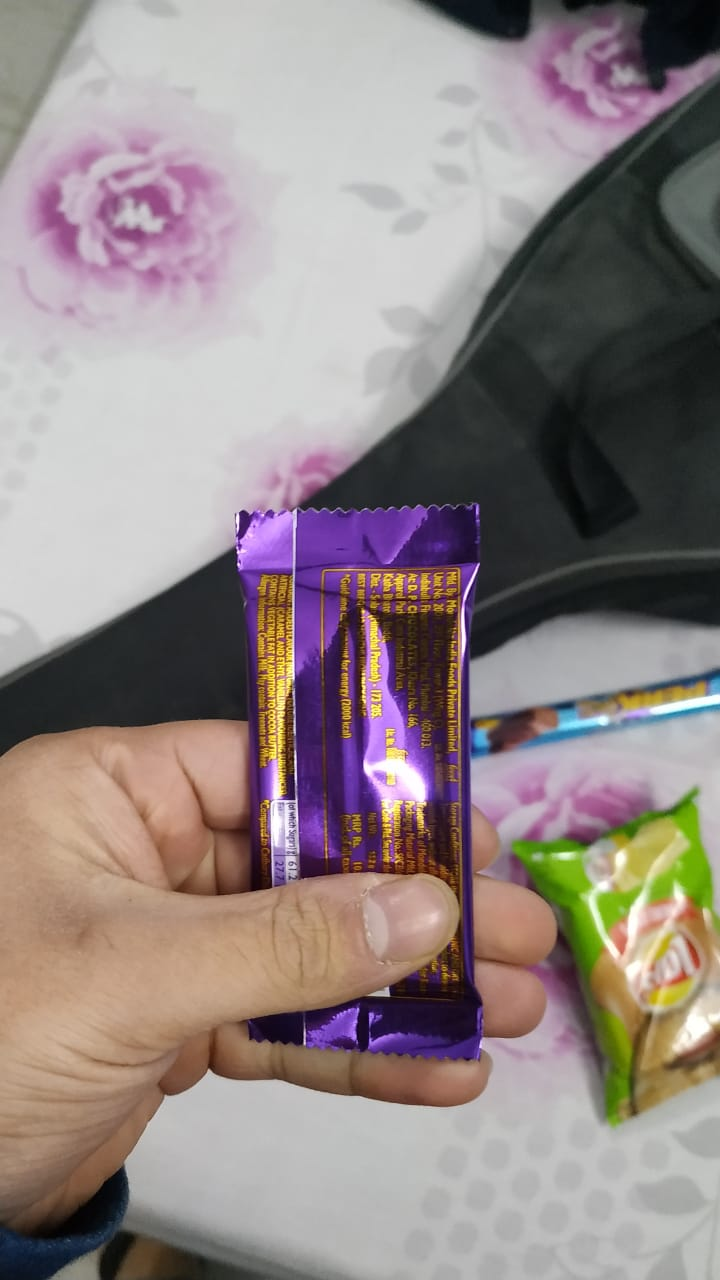dairy milk: (190, 498, 517, 1076)
lays chips: (525, 814, 720, 1116)
